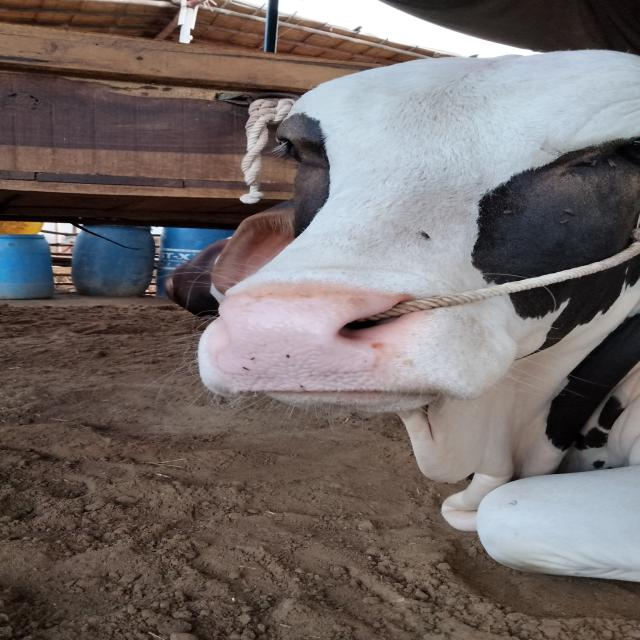muzzles: (190, 279, 442, 407)
